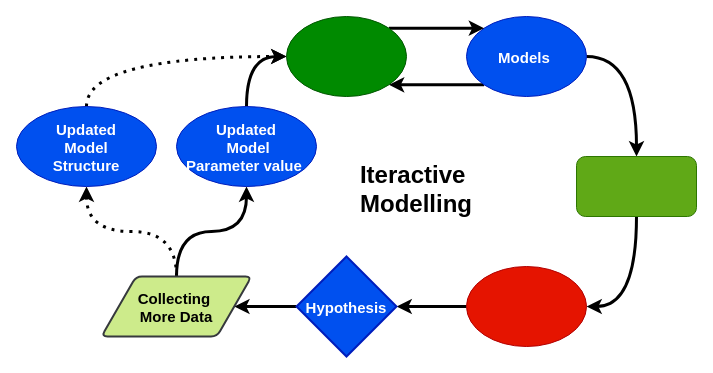
Image size: 713x373. Some labels were removed from this diagram. The centre of each missing label's shape, as x and y in pixels:
Discrepancies: the point at 526,306
New systems: the point at 636,186
Understanding systems: the point at 346,56
